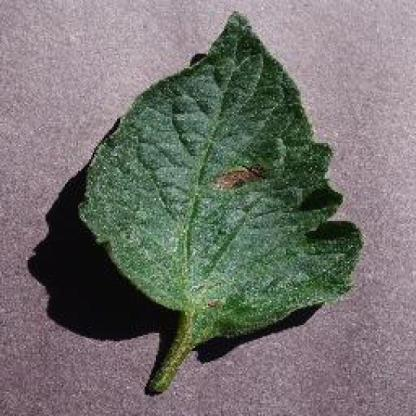Tomato_Blight: (76, 12, 362, 333)
